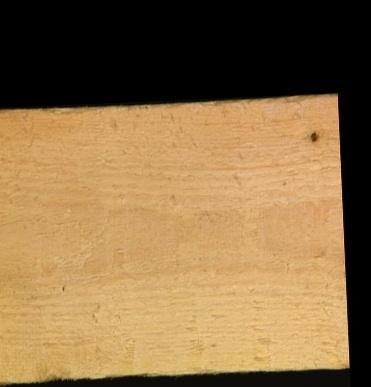small_knot: (306, 127, 320, 146)
wave: (37, 106, 116, 119)
